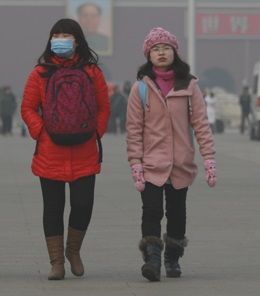person: (125, 23, 218, 283), (21, 17, 109, 281), (71, 3, 110, 53), (110, 83, 127, 135), (1, 86, 15, 135), (239, 86, 253, 134), (204, 92, 217, 134)
